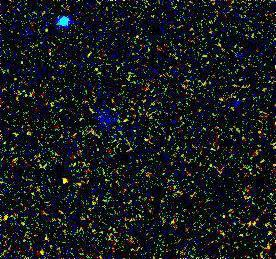star: (51, 168, 81, 198)
